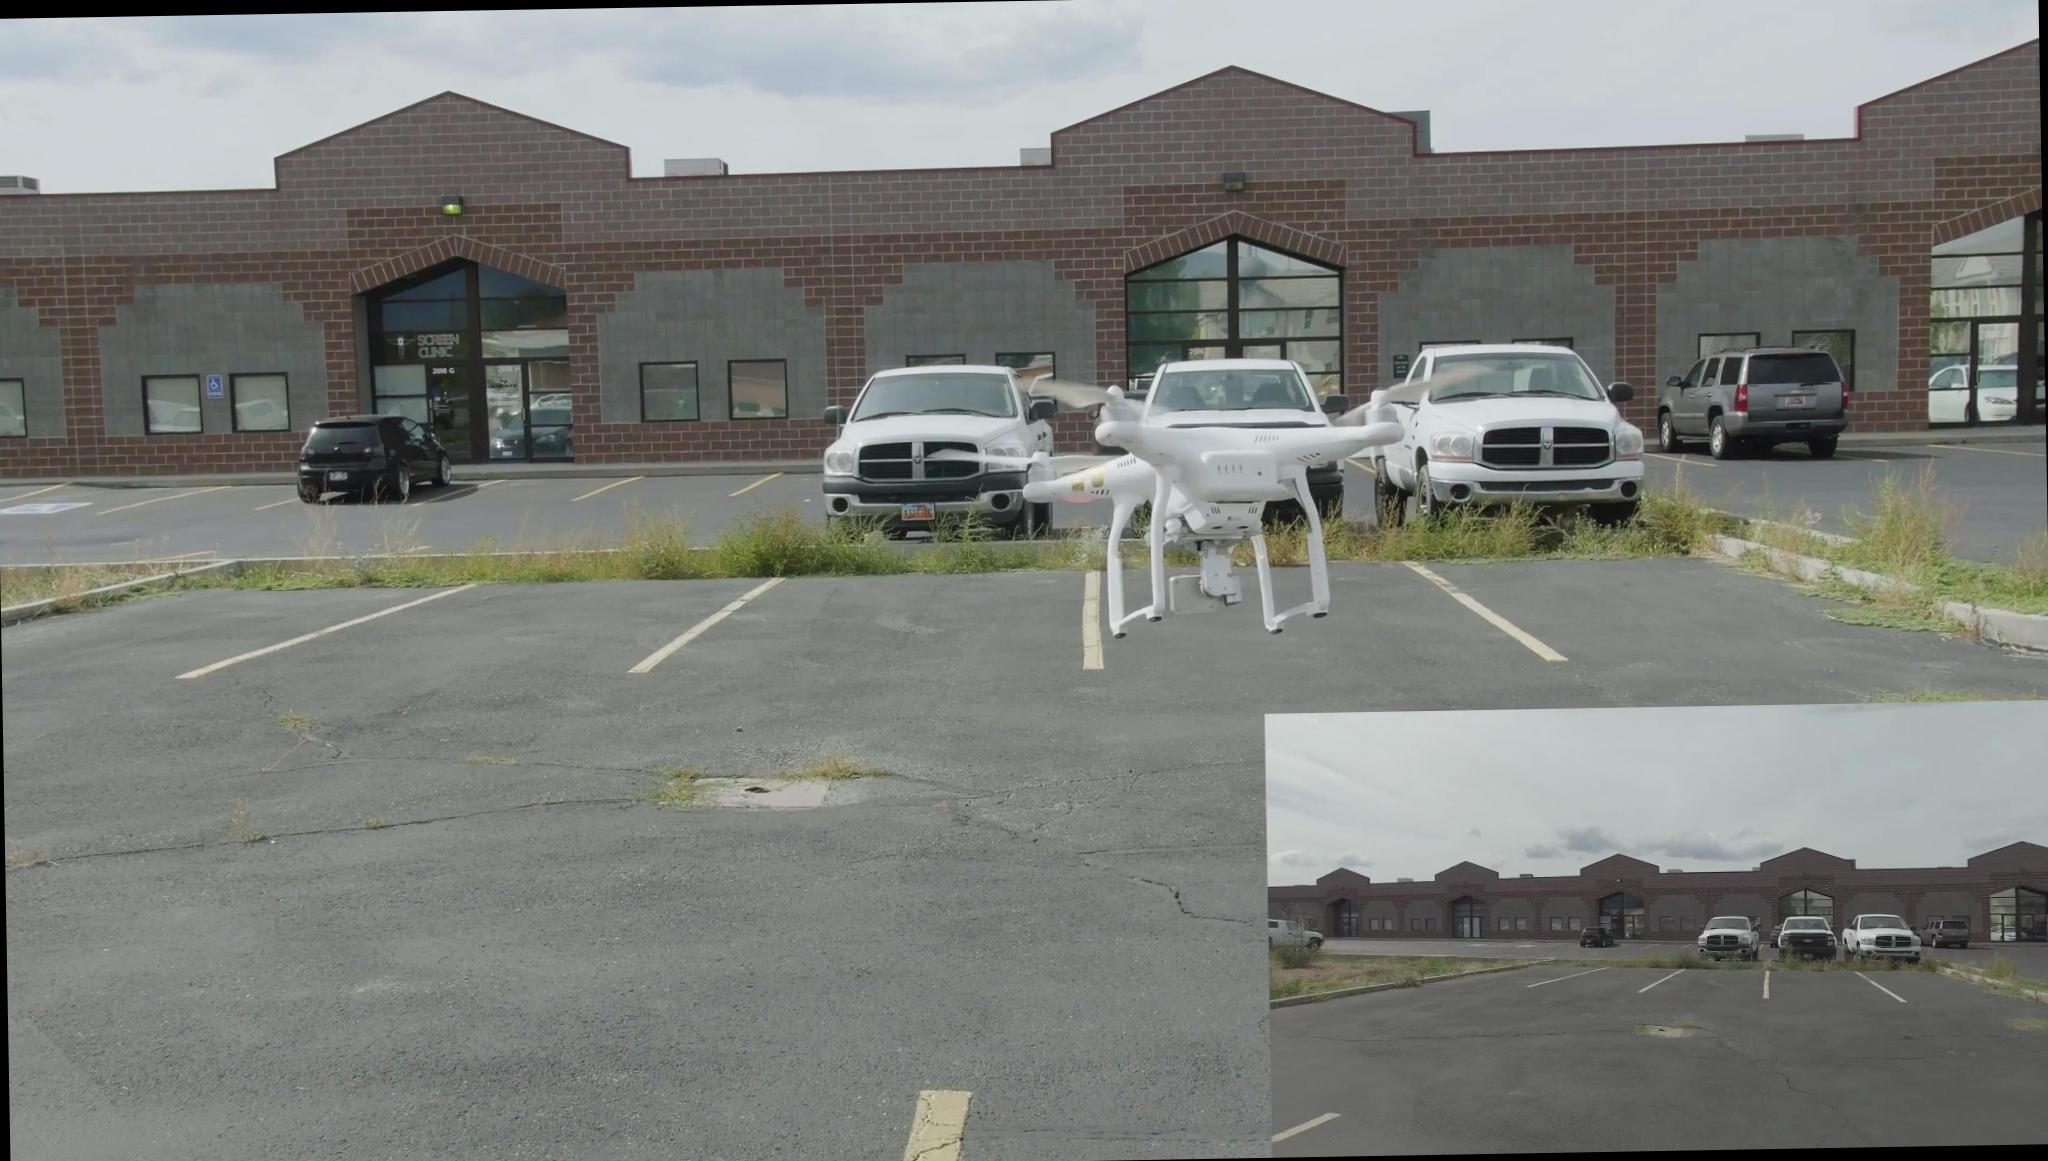drone: (990, 362, 1436, 642)
